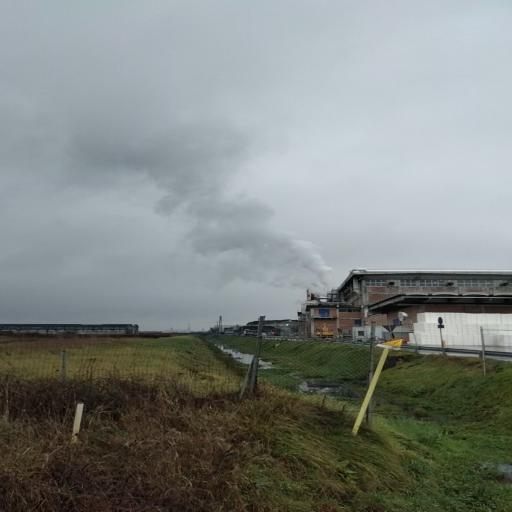leakage: (49, 104, 352, 306)
